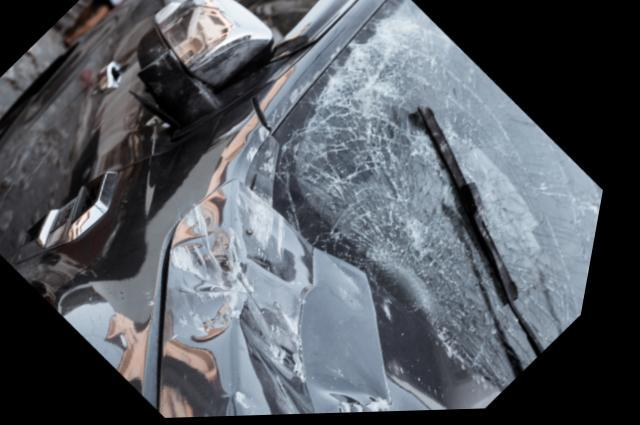dent: (171, 197, 442, 417)
glass shatter: (251, 0, 611, 395)
